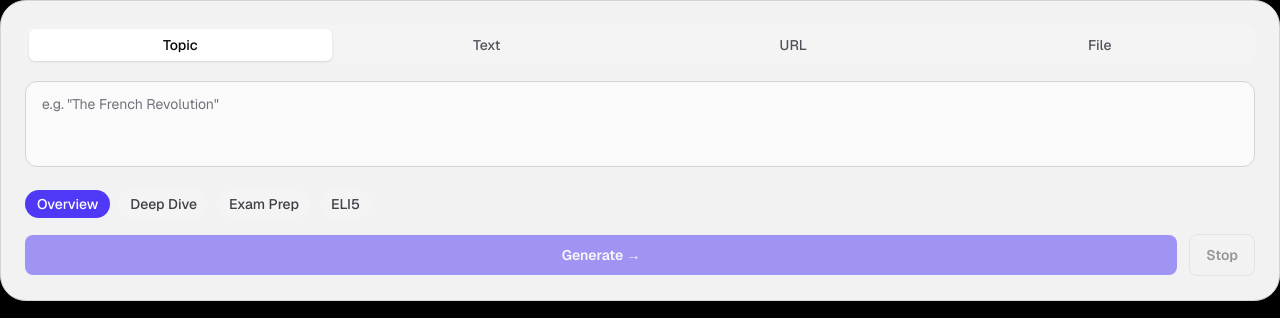
Test case: PromptBox › enables generate button when input has value
The width and height of the screenshot is (1280, 318).
Type "React hooks" into the text box with test id "prompt-input" at point(640, 124), box [25, 81, 1255, 167]
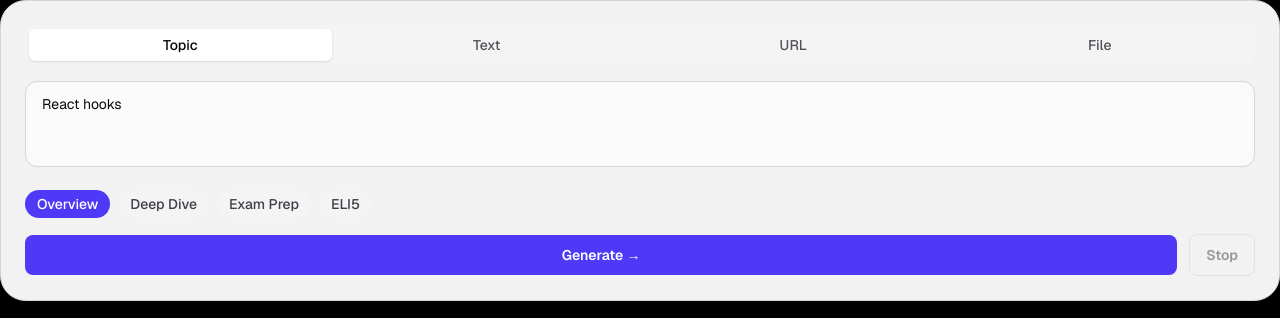
Check: the button with test id "generate-button" is enabled, box [25, 235, 1177, 275]
